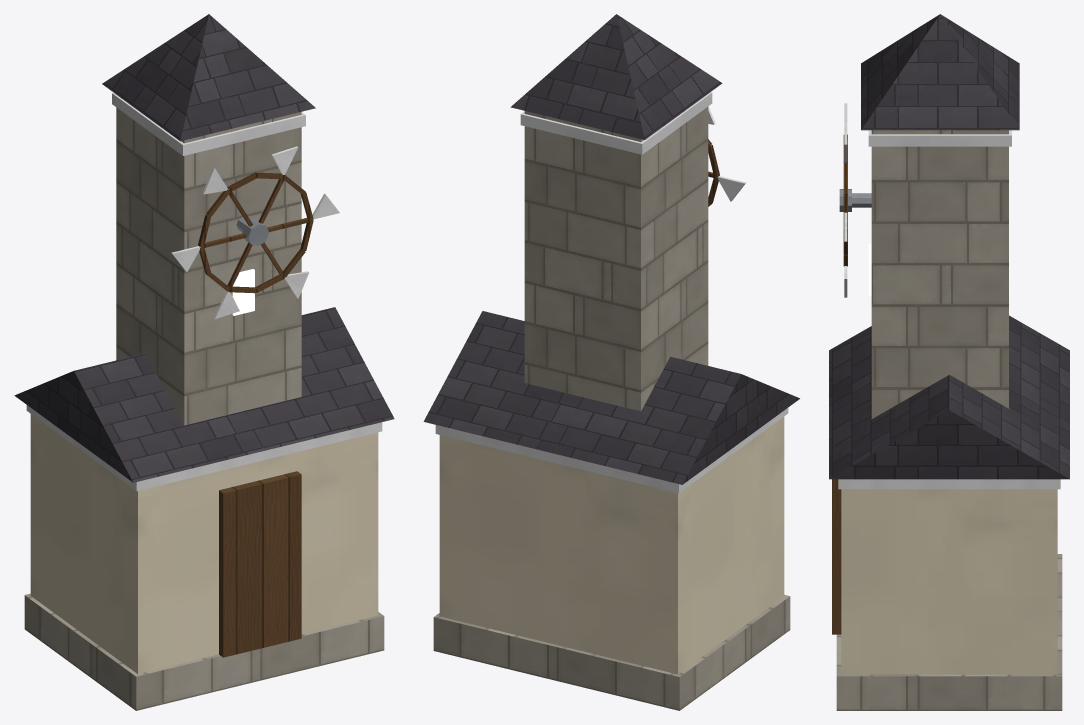
Rendered from protocol.lifi.glb.
3 renders of one model, left to right at view 1: azimuth 30°, elevation 25°; view 2: azimuth 150°, elevation 25°; view 3: azimuth 270°, elevation 25°, orthographic. The views are drawn at different scales.
Visible parts, largest first — view 1: building.protocol.lifi, wheel; view 2: building.protocol.lifi, wheel; view 3: building.protocol.lifi, wheel.
Boxes of the visible parts, x1=… form: building.protocol.lifi: x1=14, y1=14, x2=394, y2=710; wheel: x1=171, y1=146, x2=339, y2=319; building.protocol.lifi: x1=423, y1=14, x2=799, y2=710; wheel: x1=708, y1=106, x2=745, y2=206; building.protocol.lifi: x1=829, y1=14, x2=1069, y2=710; wheel: x1=839, y1=103, x2=851, y2=297.
Size of the model in its own units: 2 by 4.6 by 1.58.
Materials: 8 (7 with a texture image).
